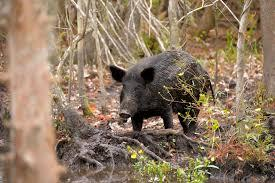wildboar: (108, 48, 212, 141)
